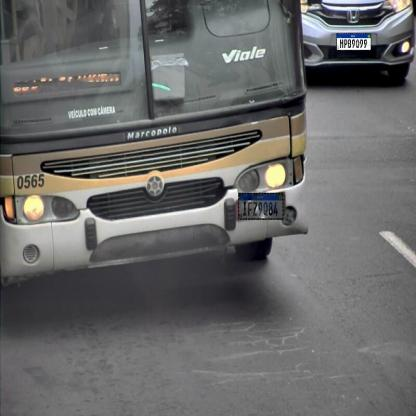PlacaM: (238, 193, 284, 220), (336, 33, 372, 51)
